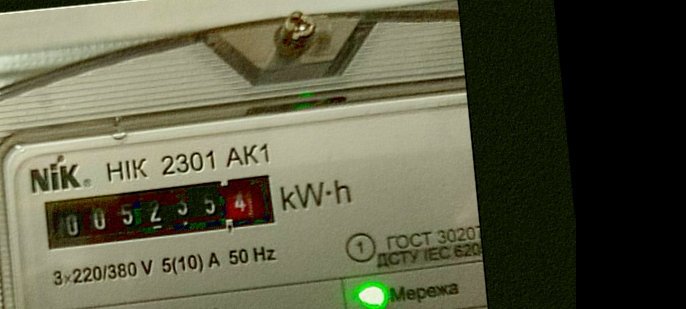0: (63, 210, 80, 237), (91, 206, 108, 231)
2: (145, 196, 163, 224)
3: (172, 190, 191, 217)
4: (229, 185, 250, 215)
5: (199, 187, 218, 216), (118, 200, 135, 226)
screen: (29, 163, 285, 259)
